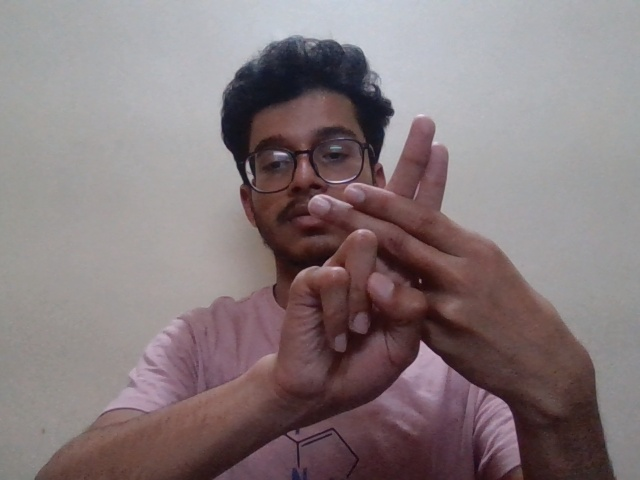disabled: (241, 109, 606, 431)
